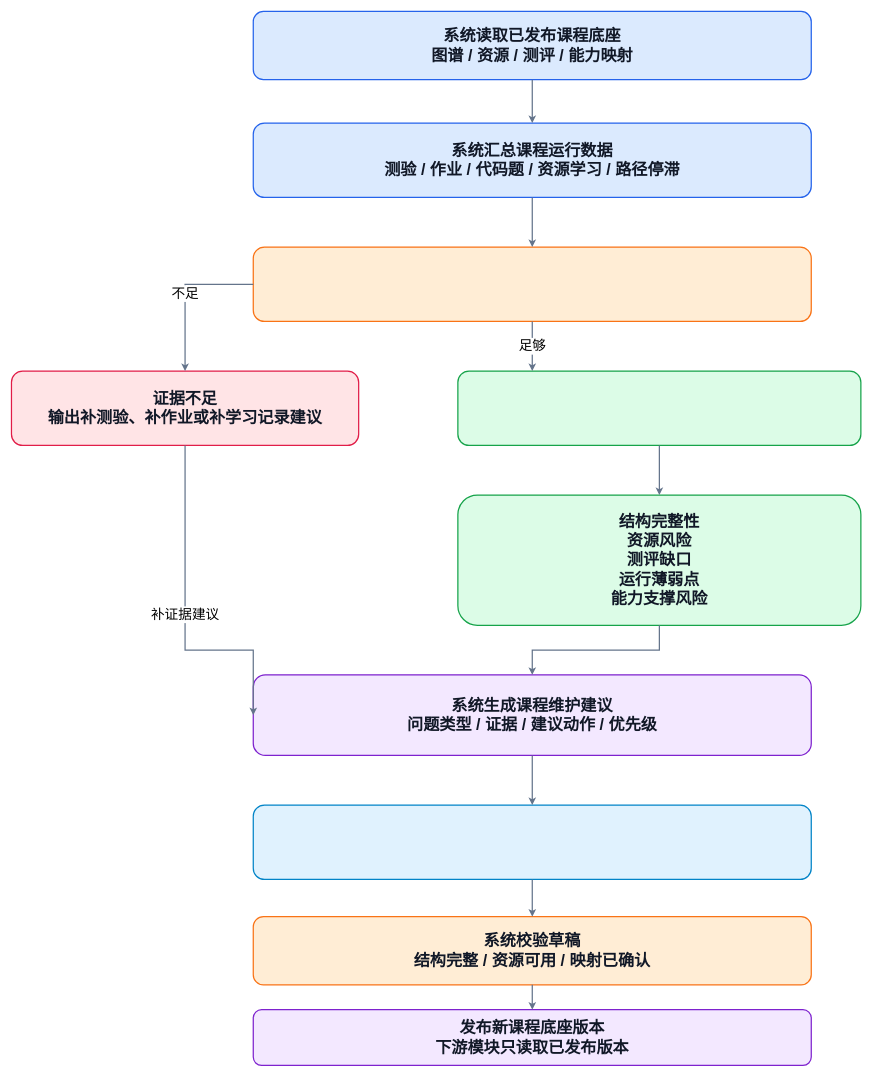
The diagram is 872 pixels wide and 1076 high, and some of its shapes have lost their labels. The centre of each missing label's shape, as x and y in pixels:
"教师审核建议 确认处理 / 暂缓观察 / 修改草稿" belongs at [532,842].
"系统判断证据是否达到最低门槛 样本数 / 完成率 / 最近时间窗" belongs at [532,284].
"证据足够 系统执行五类课程判定规则" belongs at [659,408].
